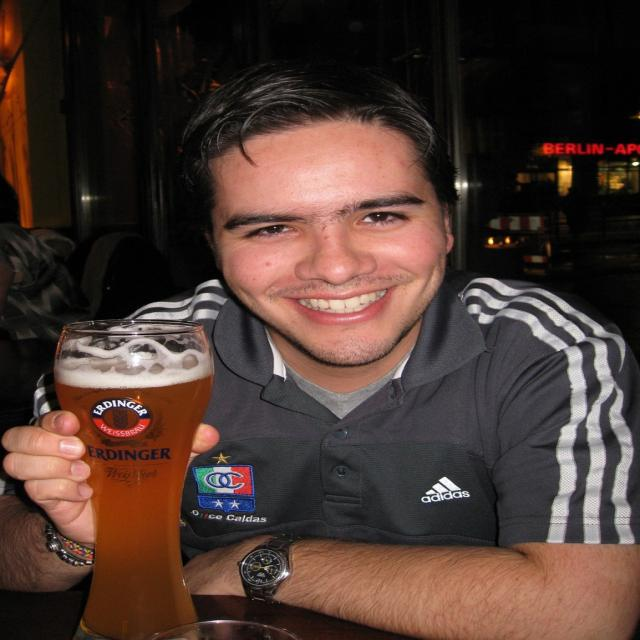erdinger: (70, 383, 186, 467)
